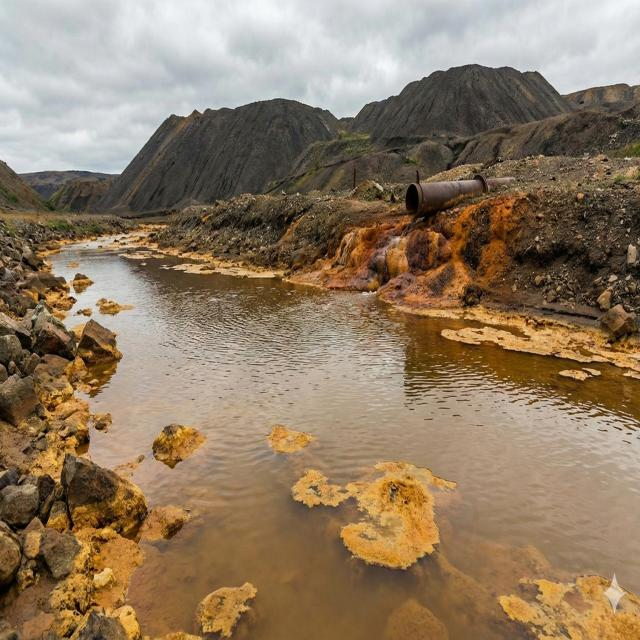yellow_boy: (52, 238, 640, 638)
